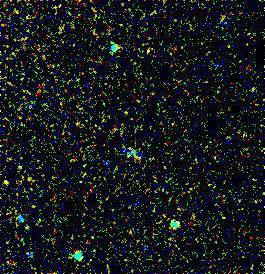star: (0, 166, 22, 196)
